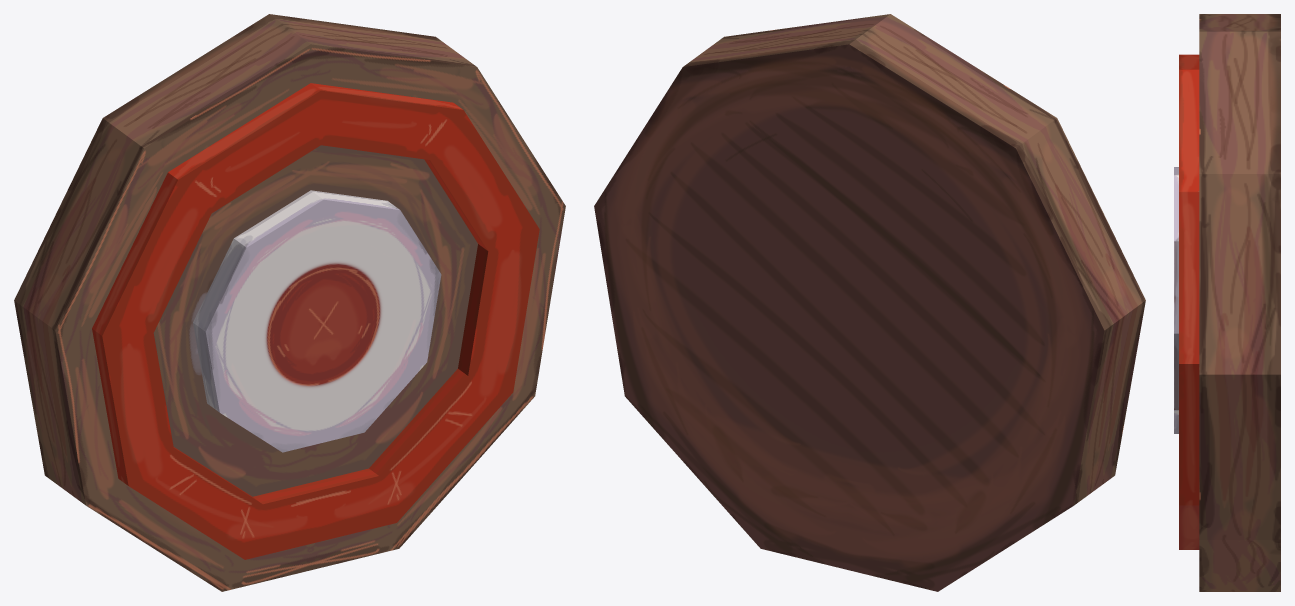
File: diana_prueba.fbx
3 views of the same model, side by side, from view 1: azimuth 30°, elevation 25°; view 2: azimuth 150°, elevation 25°; view 3: azimuth 270°, elevation 25° (orthographic).
Parts seen in each view (by area): view 1: Cylinder; view 2: Cylinder; view 3: Cylinder.
Boxes of the visible parts, x1,y1,x2,y2 form: Cylinder: (14, 14, 565, 591); Cylinder: (594, 14, 1145, 591); Cylinder: (1174, 14, 1280, 591).
Bounding box in the file's own units: 197 × 194 × 36.29.
